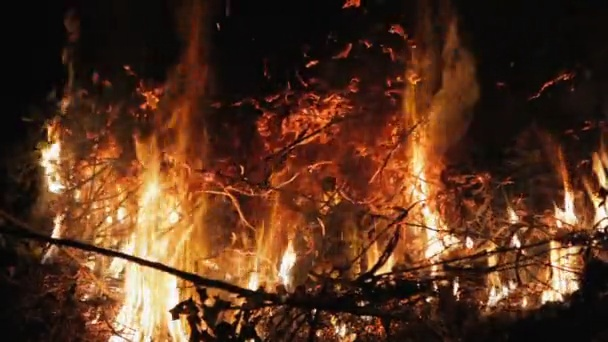fire: (100, 179, 189, 342), (399, 132, 458, 271), (538, 199, 580, 304), (483, 205, 524, 307), (249, 243, 296, 289), (42, 142, 65, 195), (592, 154, 608, 228), (51, 215, 62, 236)
